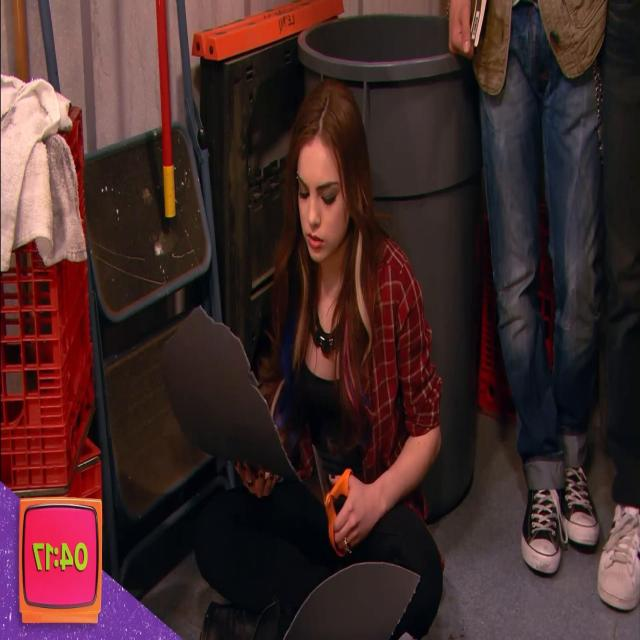scissor: (311, 443, 354, 557)
